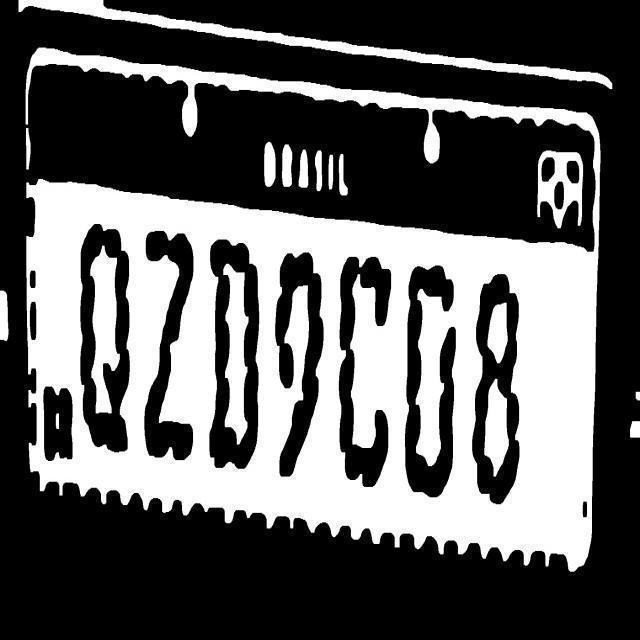0: (404, 258, 455, 502)
8: (469, 264, 524, 507)
9: (274, 245, 325, 480)
c: (338, 247, 390, 492)
d: (208, 234, 261, 474)
q: (76, 214, 134, 462)
z: (141, 222, 195, 466)
